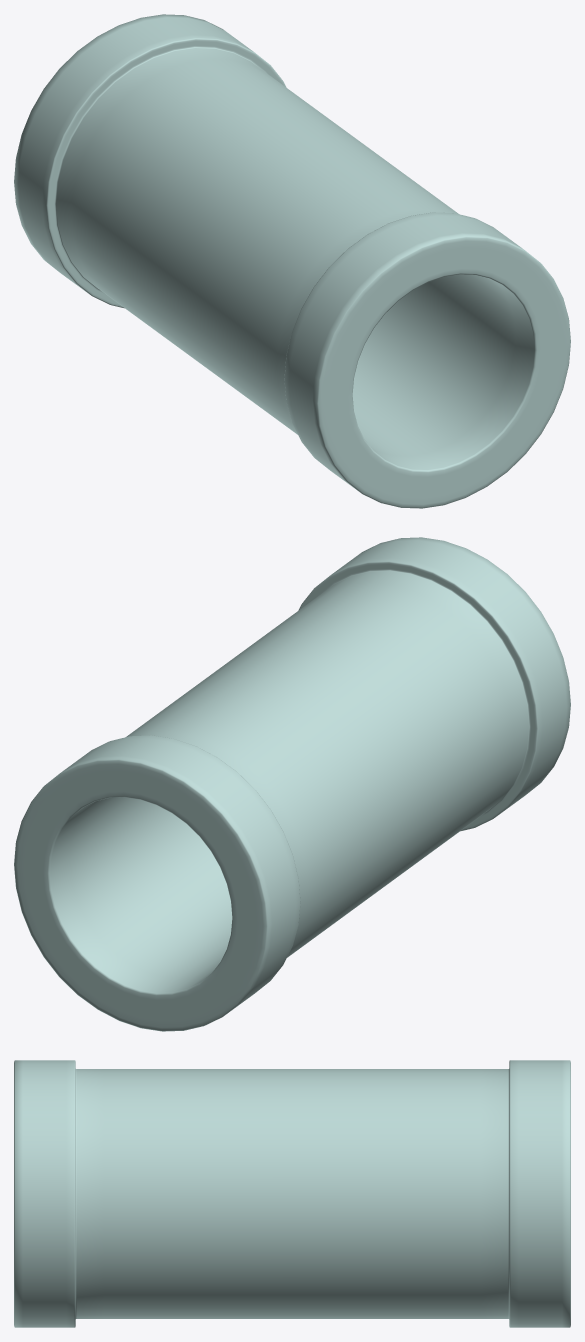
The model's file is pipe_v1_st.FBX.
3 views of the same model, one above another, from view 1: azimuth 30°, elevation 25°; view 2: azimuth 150°, elevation 25°; view 3: azimuth 270°, elevation 25° (orthographic). The views are drawn at different scales.
Visible parts, largest first — view 1: Cylinder028; view 2: Cylinder028; view 3: Cylinder028.
Part boxes in pixels (x1,y1,x2,y2): Cylinder028: (14,14,570,508); Cylinder028: (14,537,570,1031); Cylinder028: (14,1060,570,1327).
Bounding box in the file's own units: 91.69 × 91.68 × 190.
